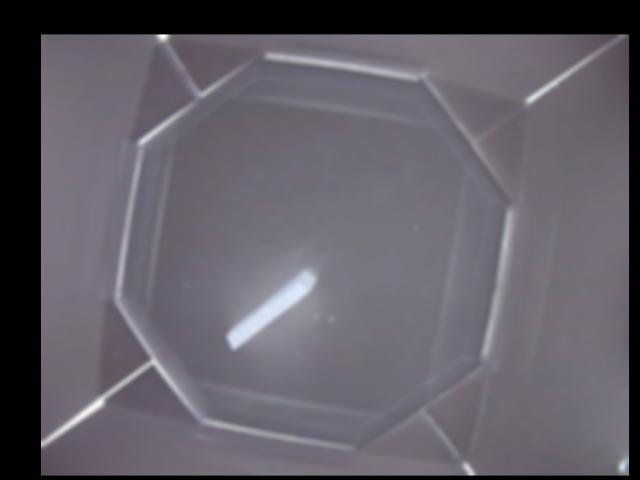China: (232, 273, 314, 347)
